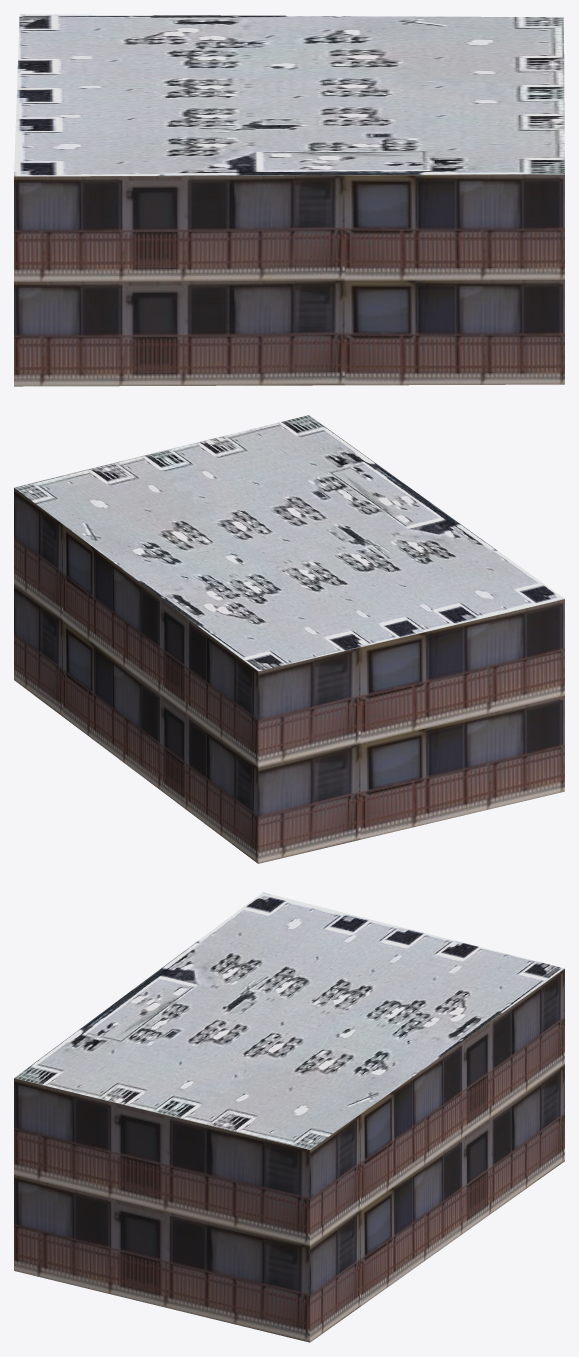
The model's file is ResTex__787.fbx.
3 views of the same model, one above another, from view 1: azimuth 30°, elevation 25°; view 2: azimuth 150°, elevation 25°; view 3: azimuth 270°, elevation 25° (orthographic). The views are drawn at different scales.
Parts seen in each view (by area): view 1: CityEngineMaterial_6_m, CityEngineMaterial_m; view 2: CityEngineMaterial_6_m, CityEngineMaterial_m; view 3: CityEngineMaterial_6_m, CityEngineMaterial_m.
Part boxes in pixels (<box>): CityEngineMaterial_6_m: <box>14,174,564,386</box>; CityEngineMaterial_m: <box>14,14,564,176</box>; CityEngineMaterial_6_m: <box>14,488,564,863</box>; CityEngineMaterial_m: <box>14,415,564,671</box>; CityEngineMaterial_6_m: <box>14,969,564,1342</box>; CityEngineMaterial_m: <box>14,892,564,1149</box>.
Size of the model in its own units: 17.2 by 6 by 15.55.
Materials: 2 (2 with a texture image).
